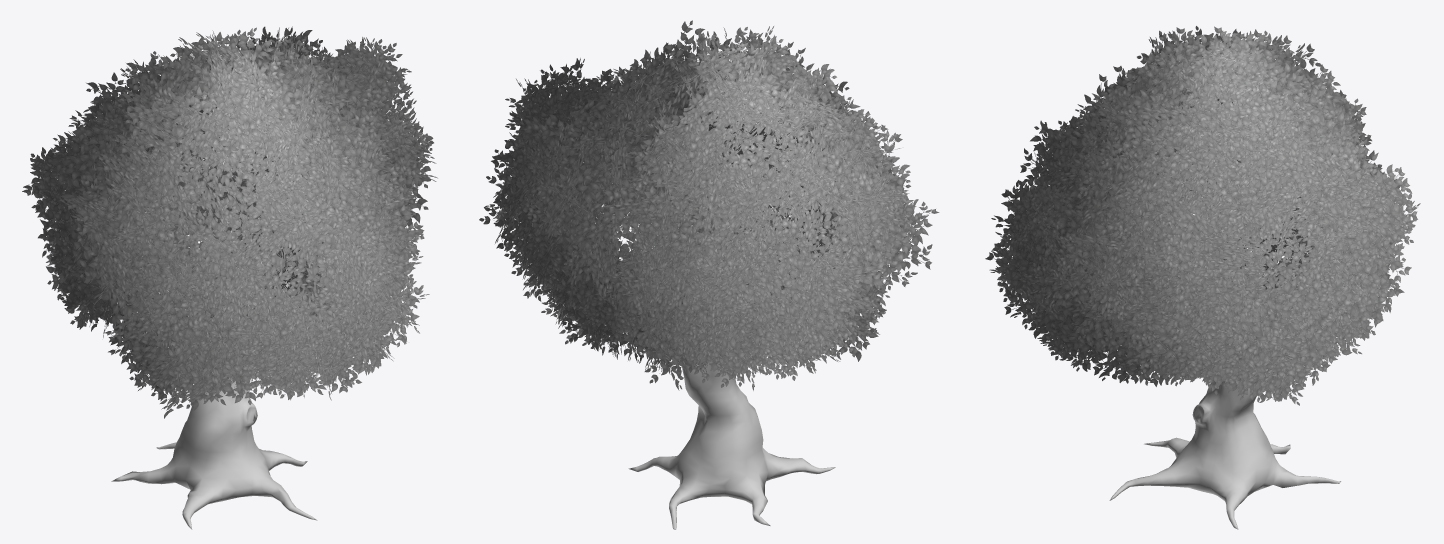
Rendered from SM_TreeLarge_01_Unity.fbx.
The picture shows the model from 3 angles, left to right: view 1: azimuth 30°, elevation 25°; view 2: azimuth 150°, elevation 25°; view 3: azimuth 270°, elevation 25°; orthographic projection.
Visible parts, largest first — view 1: Tree_Large_01_LOD0; view 2: Tree_Large_01_LOD0; view 3: Tree_Large_01_LOD0.
Part boxes in pixels (<box>): Tree_Large_01_LOD0: <box>22,26,437,529</box>; Tree_Large_01_LOD0: <box>479,20,939,529</box>; Tree_Large_01_LOD0: <box>985,26,1420,529</box>.
Size of what is drawn, in the model's own units: 107 by 119 by 105.
